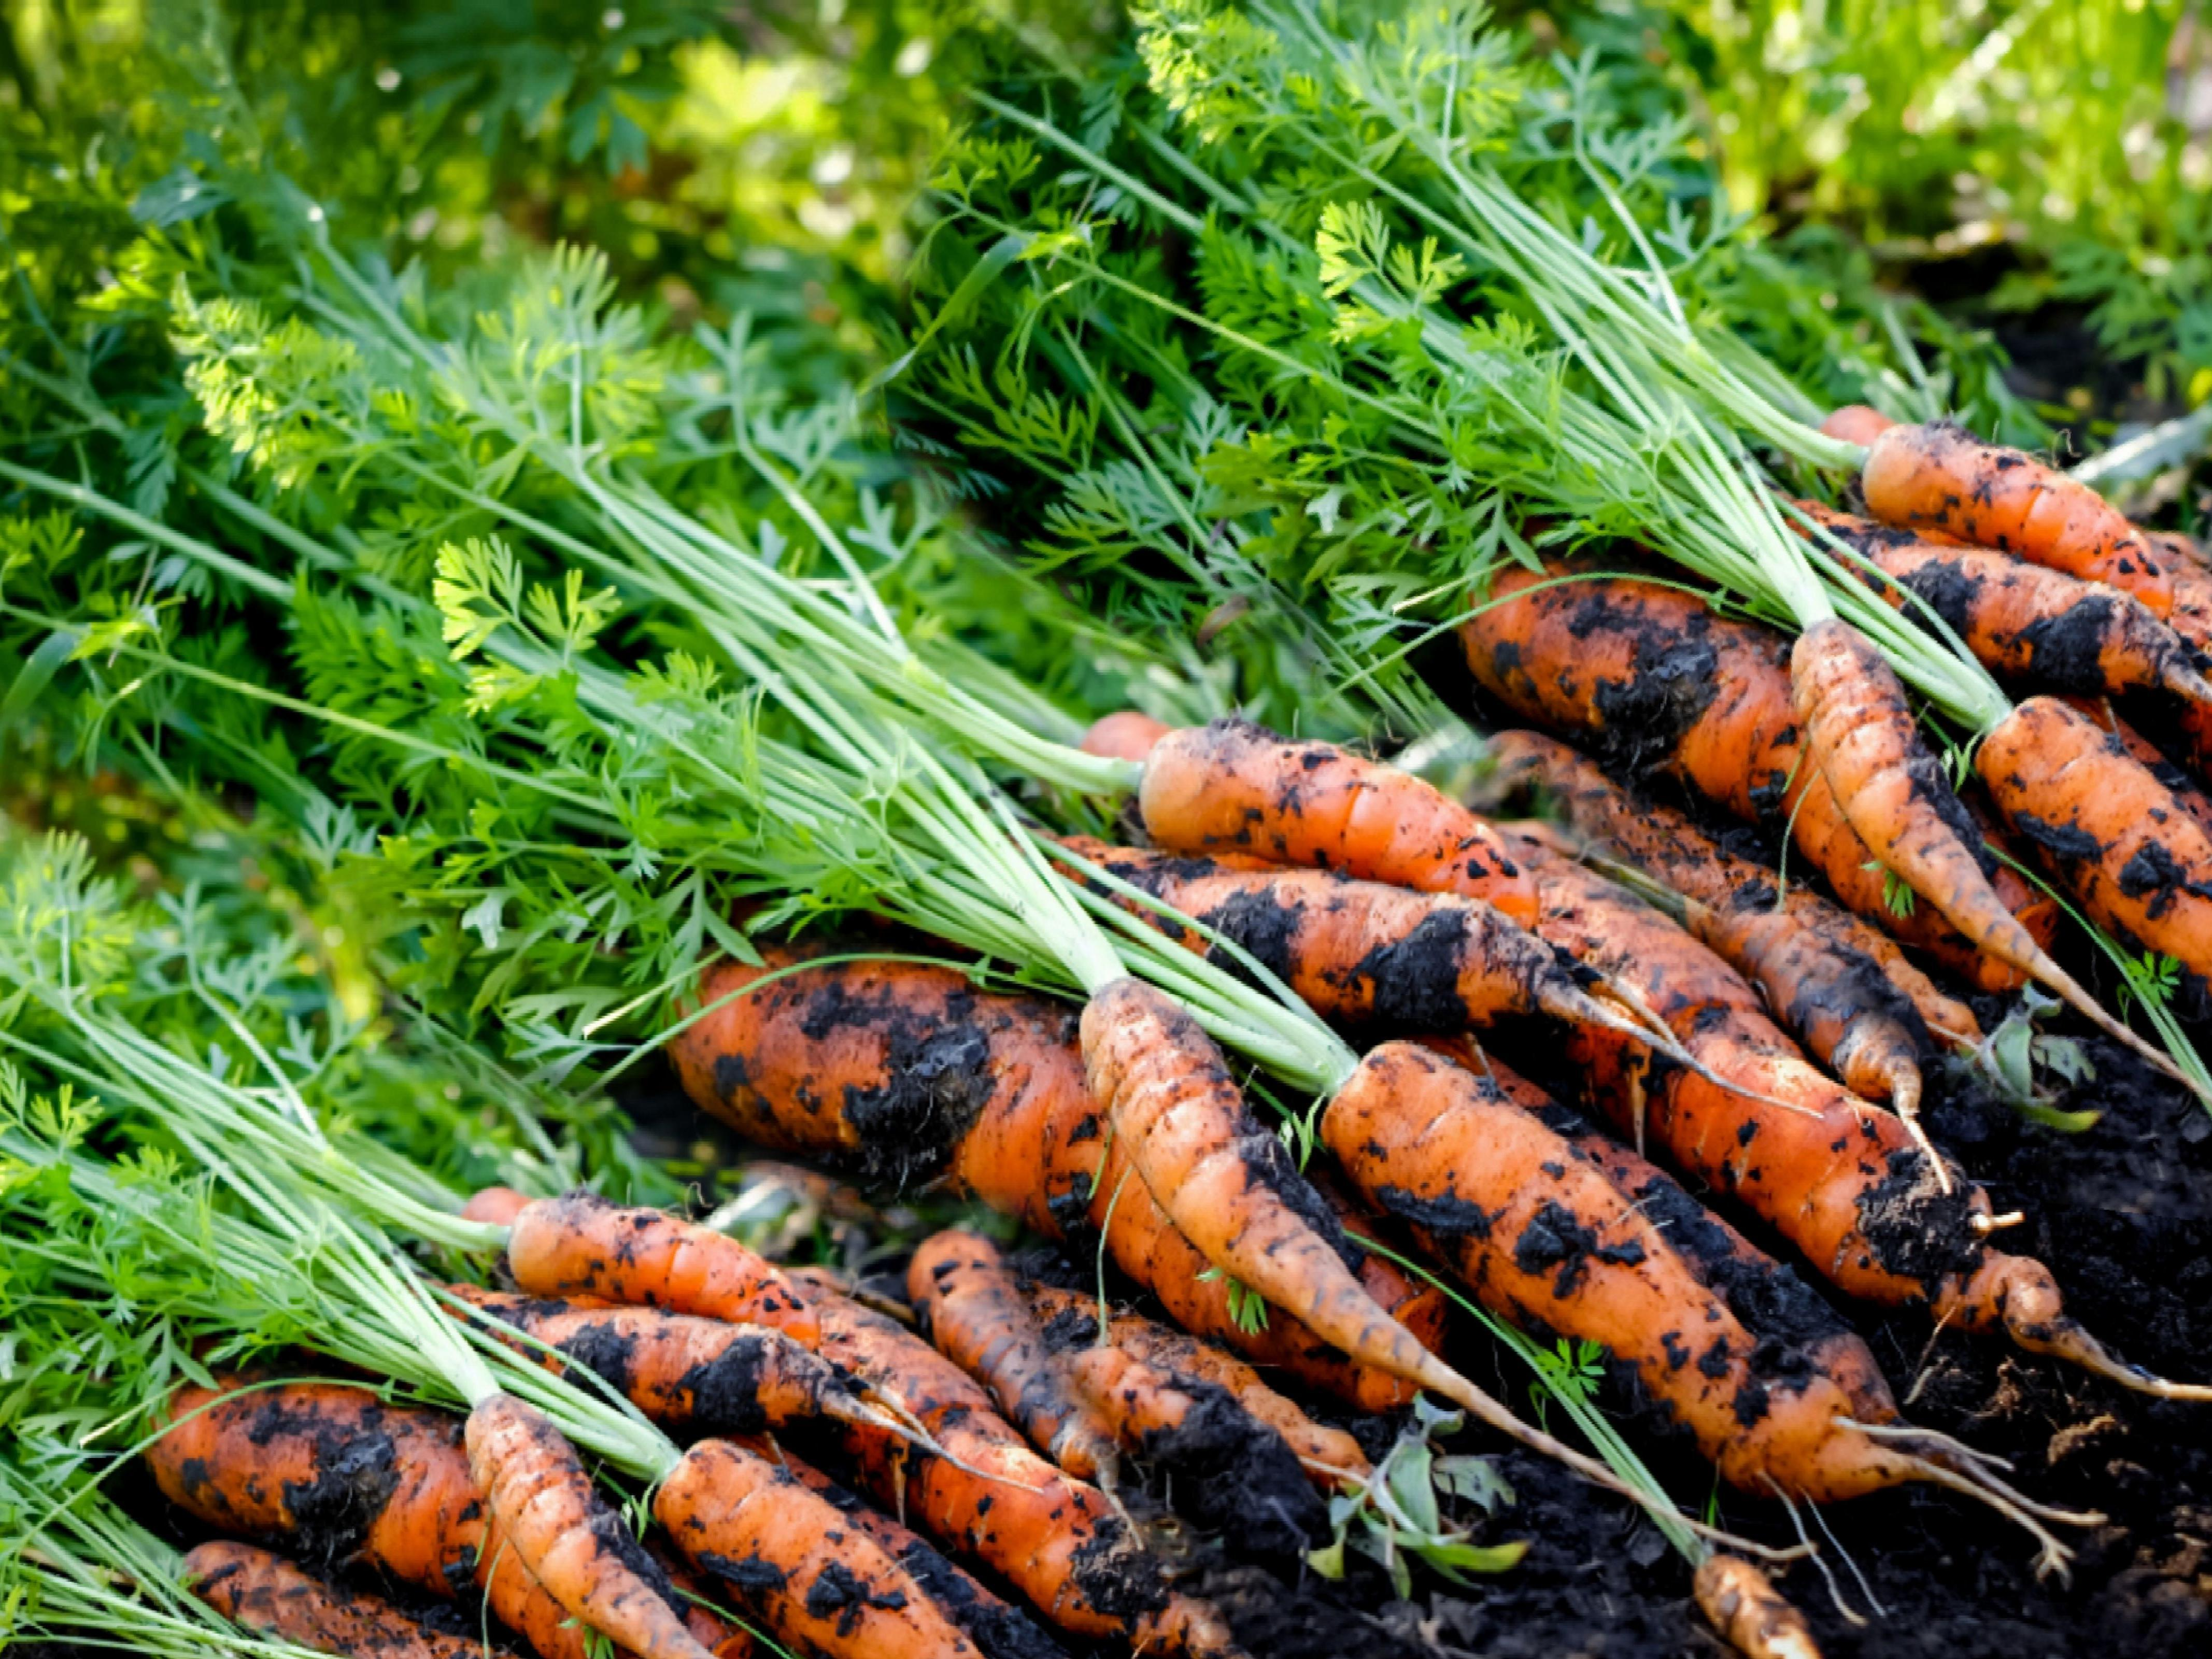carrot: (566, 606, 2212, 1511), (19, 1070, 2212, 1654), (1385, 484, 2212, 1521), (838, 847, 2081, 1502)
